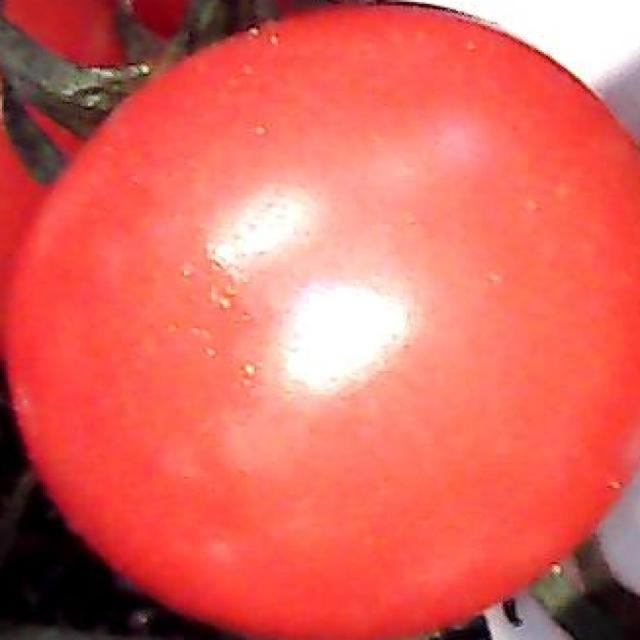Healthy Fruit: (24, 15, 418, 421)
